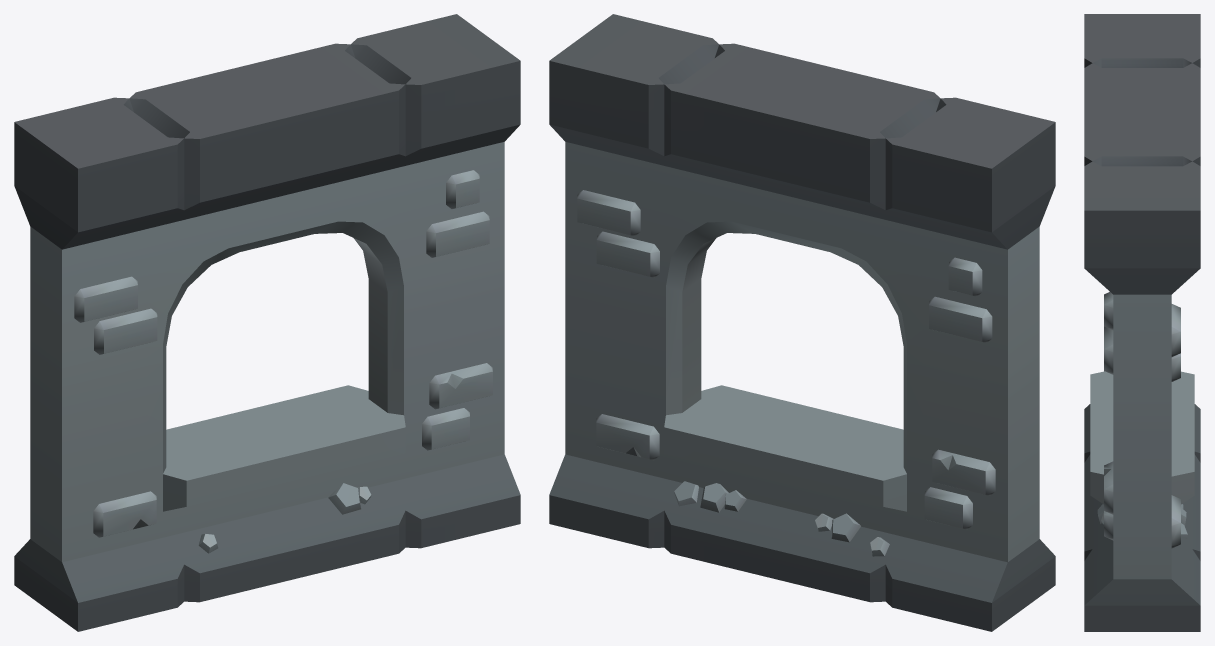
File: d_wall_archedwindow_open.glb
3 renders of one model, left to right at view 1: azimuth 30°, elevation 25°; view 2: azimuth 150°, elevation 25°; view 3: azimuth 270°, elevation 25°, orthographic. The views are drawn at different scales.
Visible parts, largest first — view 1: wall_archedwindow_open; view 2: wall_archedwindow_open; view 3: wall_archedwindow_open.
Part boxes in pixels (box(x1,y1,x2,y2)): wall_archedwindow_open: box(14, 14, 520, 631); wall_archedwindow_open: box(549, 14, 1055, 631); wall_archedwindow_open: box(1084, 14, 1200, 631).
Size of the model in its own units: 4 by 4 by 1.
1 material, 1 textured.
